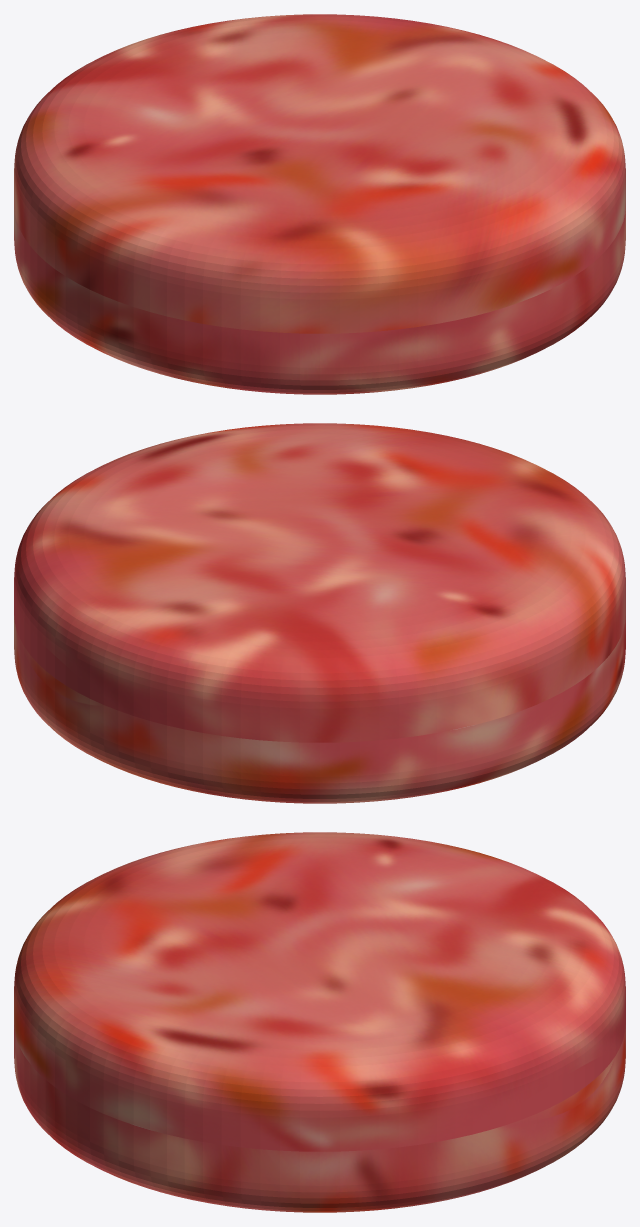
Rendered from patty_raw.obj.
3 views of the same model, one above another, from view 1: azimuth 30°, elevation 25°; view 2: azimuth 150°, elevation 25°; view 3: azimuth 270°, elevation 25° (orthographic).
Visible parts, largest first — view 1: Cylinder; view 2: Cylinder; view 3: Cylinder.
Boxes of the visible parts, <box> form: Cylinder: <box>14,14,625,394</box>; Cylinder: <box>14,423,625,803</box>; Cylinder: <box>14,832,625,1212</box>.
Size of the model in its own units: 1.76 by 0.52 by 1.76.
1 material, 1 textured.
